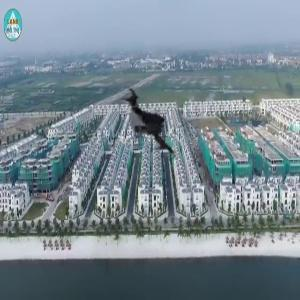drone: (108, 81, 194, 167)
